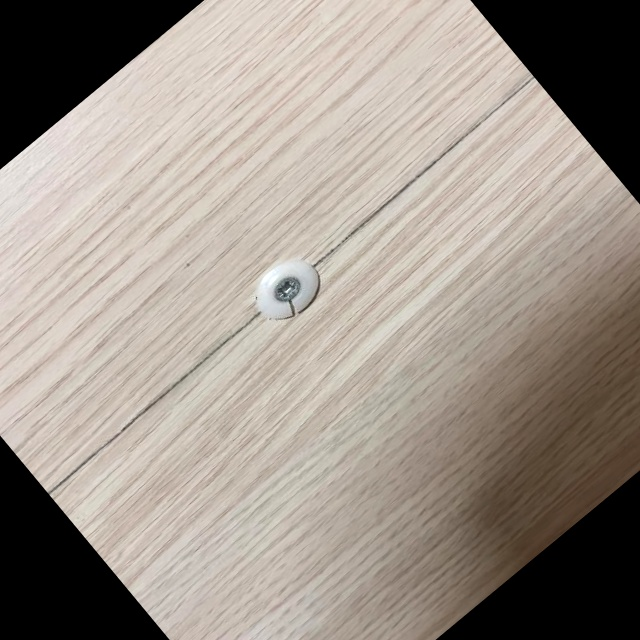pozidriv: (268, 271, 306, 307)
